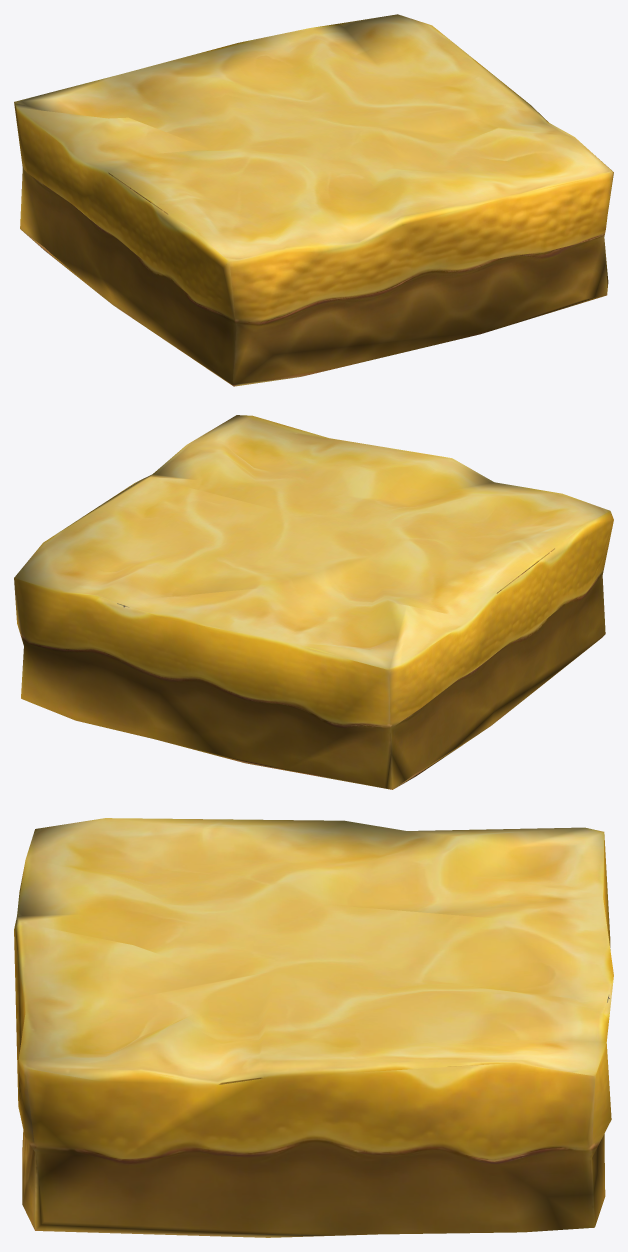
File: gnd_desert.glb
3 views of the same model, one above another, from view 1: azimuth 30°, elevation 25°; view 2: azimuth 150°, elevation 25°; view 3: azimuth 270°, elevation 25° (orthographic). The views are drawn at different scales.
Parts seen in each view (by area): view 1: Mesh0; view 2: Mesh0; view 3: Mesh0.
Part boxes in pixels (x1,y1,x2,y2): Mesh0: (14, 14, 613, 386); Mesh0: (14, 415, 613, 789); Mesh0: (14, 818, 613, 1237).
Bounding box in the file's own units: 1.89 × 0.6723 × 1.91.
Materials: 1 (1 with a texture image).
